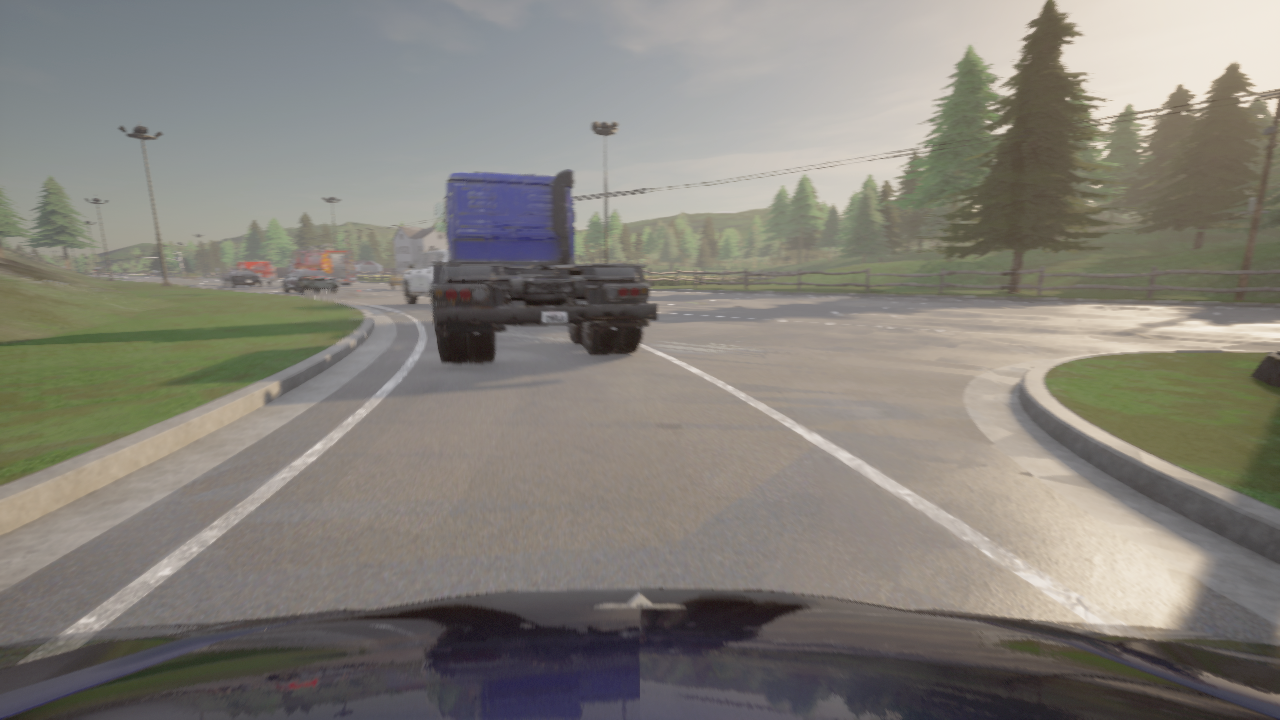cyclist: (0, 588, 1279, 719), (431, 170, 656, 363), (290, 244, 356, 285), (402, 249, 448, 304), (282, 268, 337, 293), (232, 261, 274, 284), (222, 268, 260, 288), (389, 268, 411, 289)
